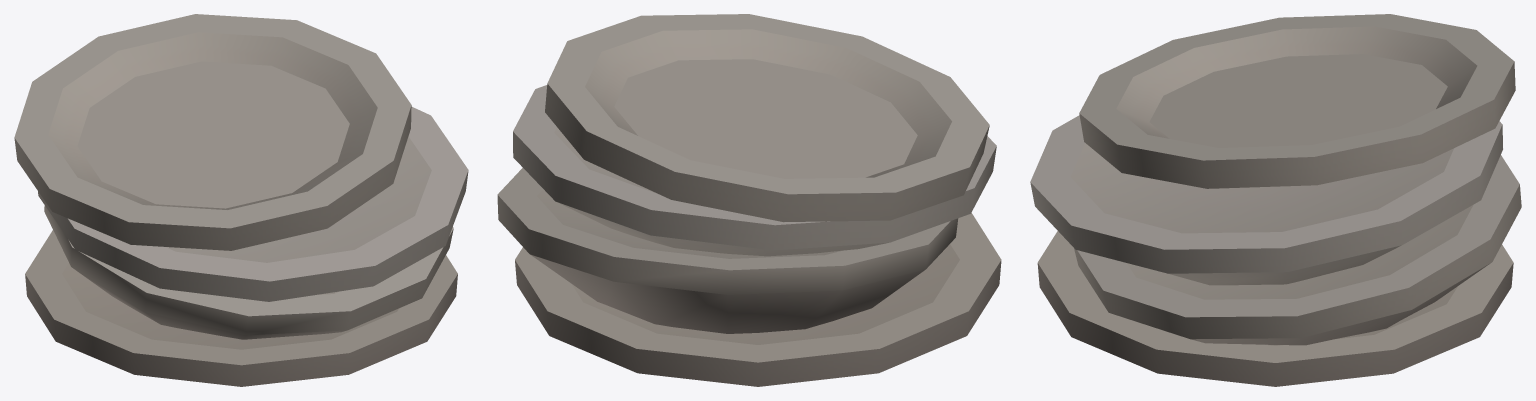
The model's file is plate_stack.gltf.
The picture shows the model from 3 angles, left to right: view 1: azimuth 30°, elevation 25°; view 2: azimuth 150°, elevation 25°; view 3: azimuth 270°, elevation 25°; orthographic projection. The views are drawn at different scales.
Parts seen in each view (by area): view 1: plate_stack; view 2: plate_stack; view 3: plate_stack.
Boxes of the visible parts, bbox=[...] form: plate_stack: bbox=[14, 14, 468, 386]; plate_stack: bbox=[497, 14, 1001, 386]; plate_stack: bbox=[1030, 14, 1521, 386].
Bounding box in the file's own units: 0.9971 × 0.5639 × 1.
1 material, 1 textured.
